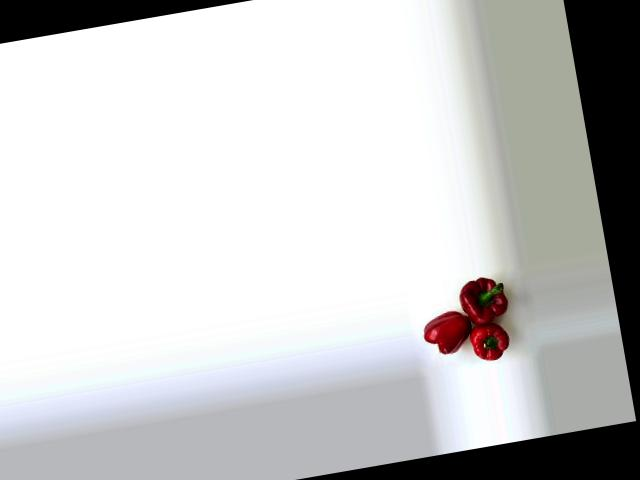bell_pepper: (414, 304, 478, 366)
